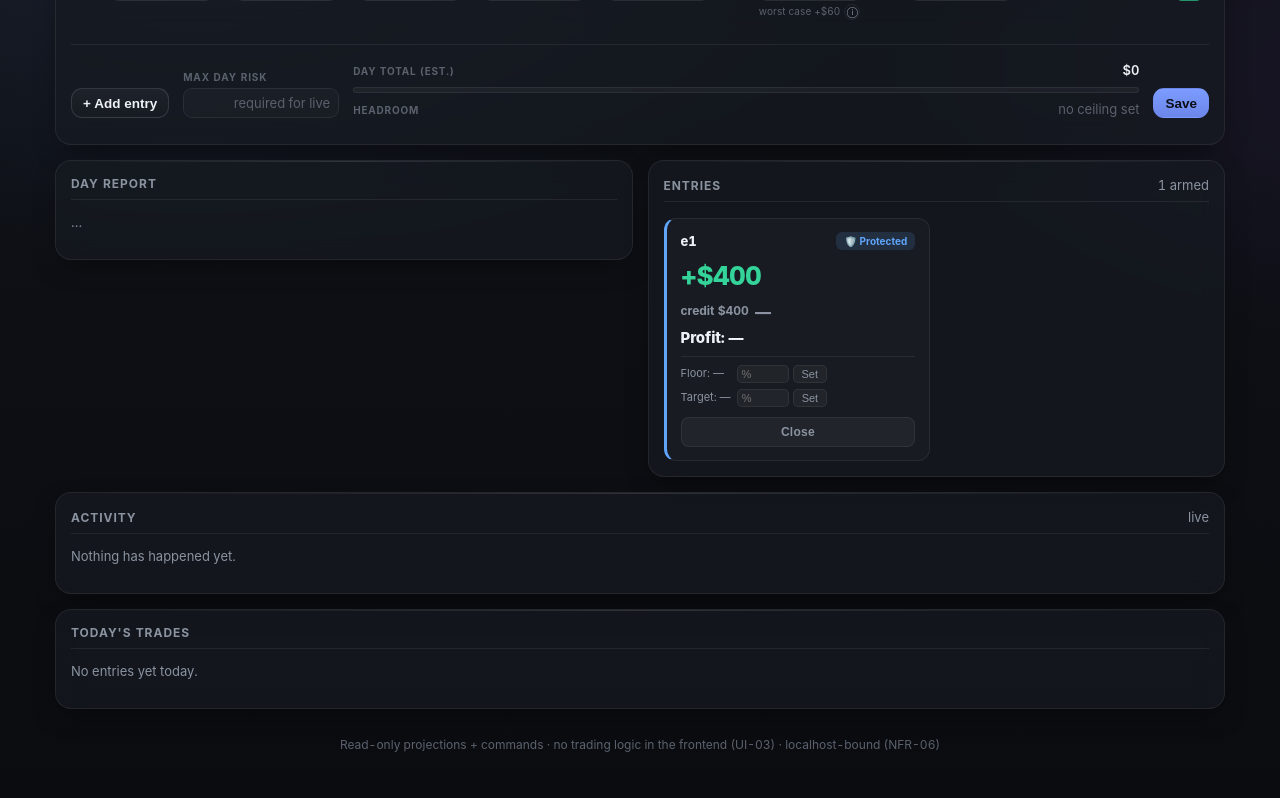
Test case: App — Close / Flatten (UI-16 / TC-FLT-01) › close_failed toasts as a pre-action failure — nothing sent, position unchanged (CLS-06)
(page scrolled)
Click the button "Close": (798, 432) [680,417,915,447]
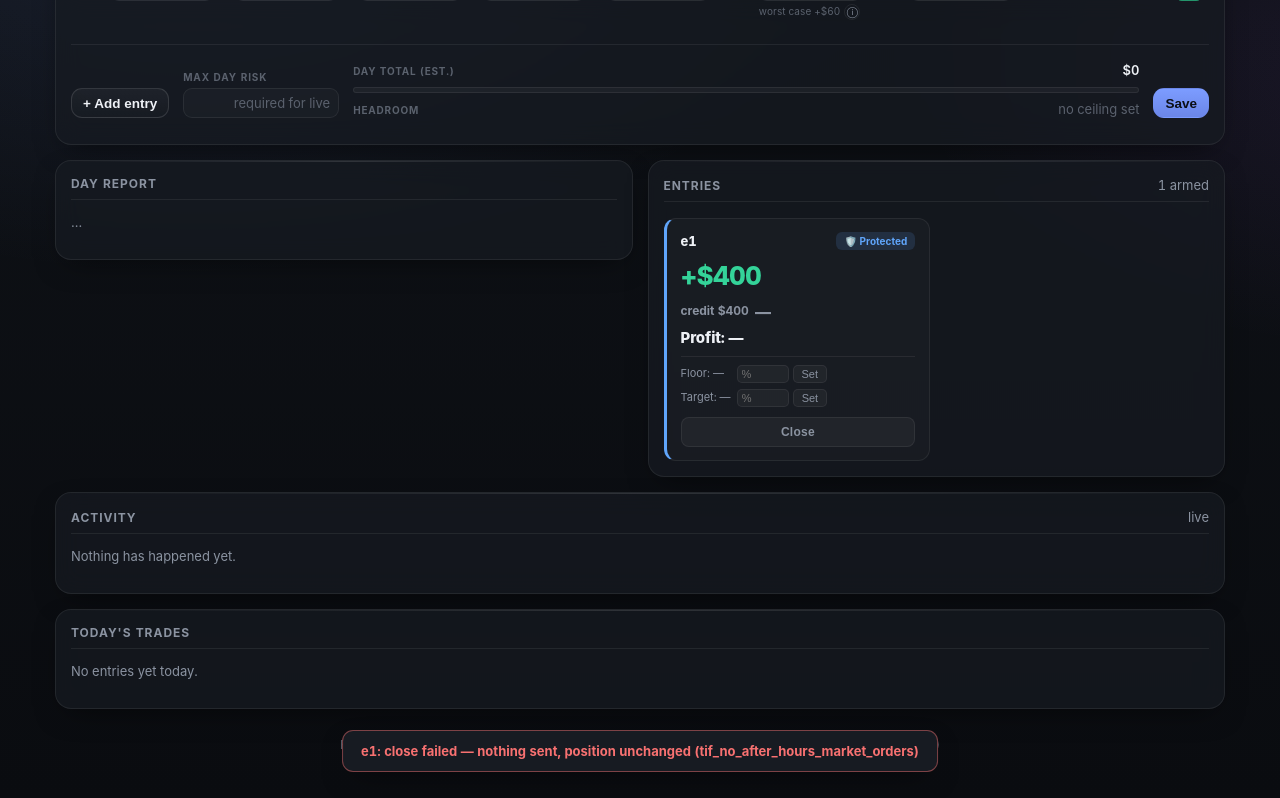
Now the text "tif_no_after_hours_market_orders" is shown, box [361,743,919,759]
